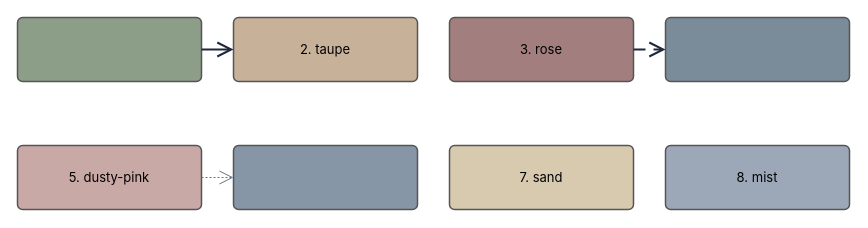
The diagram is 868 pixels wide and 228 high, and some of its shapes have lost their labels. The centre of each missing label's shape, as x and y in pixels:
"1. sage" belongs at [109,49].
"4. blue-gray" belongs at [757,49].
"6. slate" belongs at [325,177].
